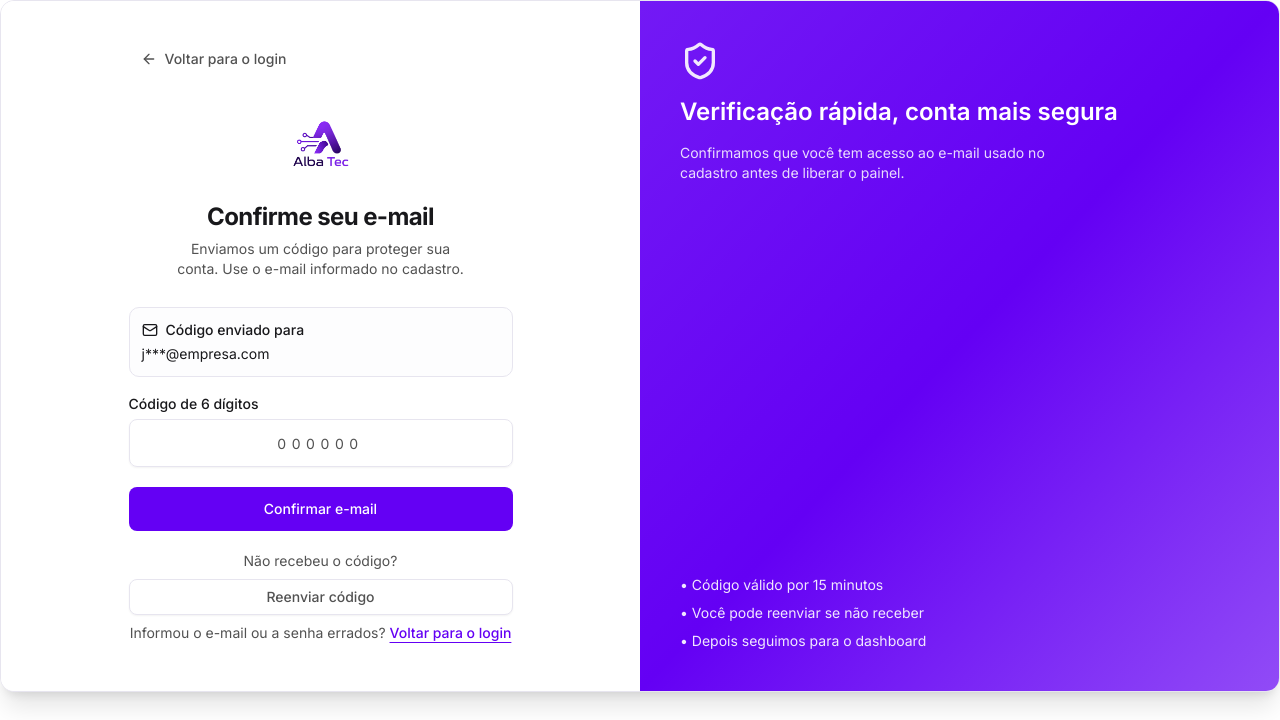
VerifyEmailForm › permite reenviar o código quando o envio automático falhou
Click the button "Reenviar código": (320, 597) [128,579,512,615]
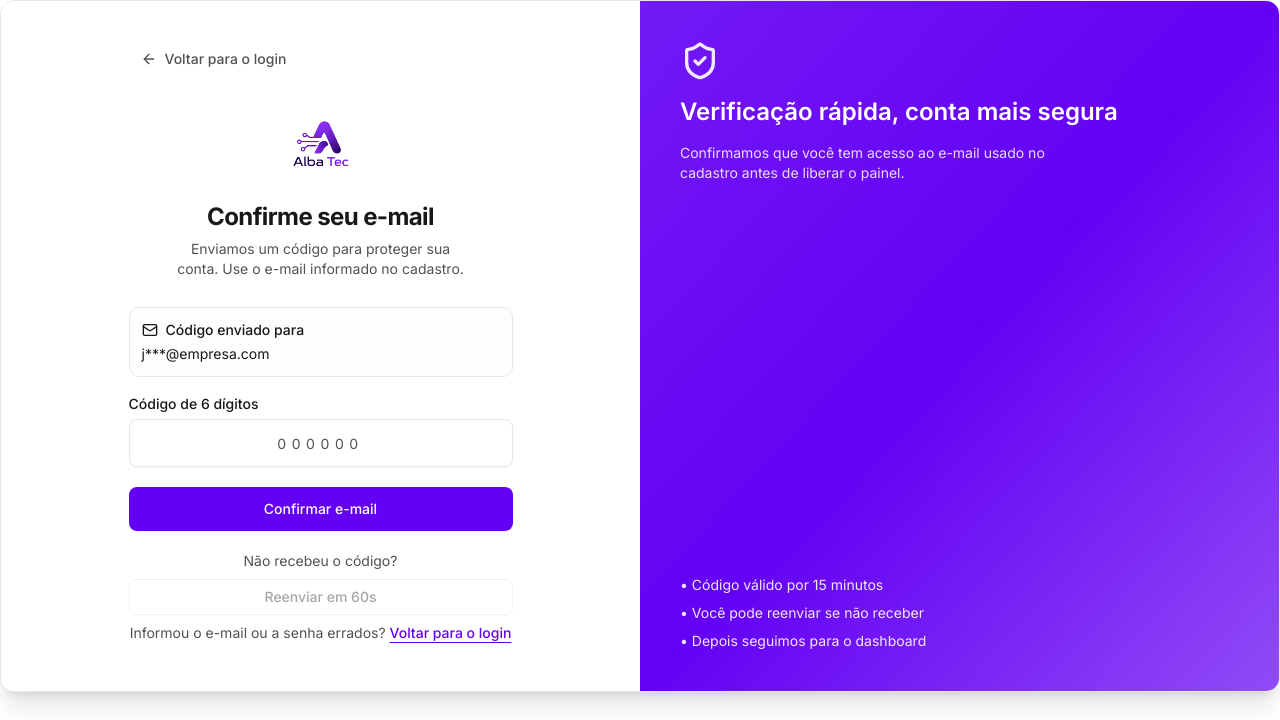
Result: the button "Reenviar em 60s" is disabled at [128,579,512,615]
